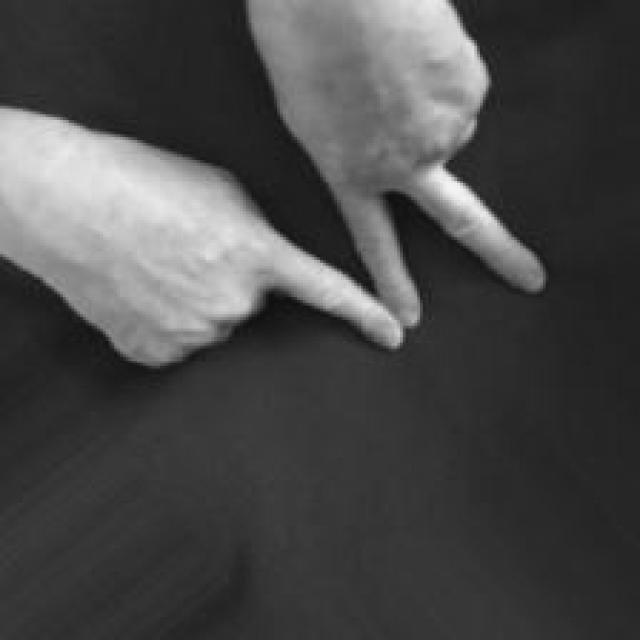N: (5, 0, 553, 376)
